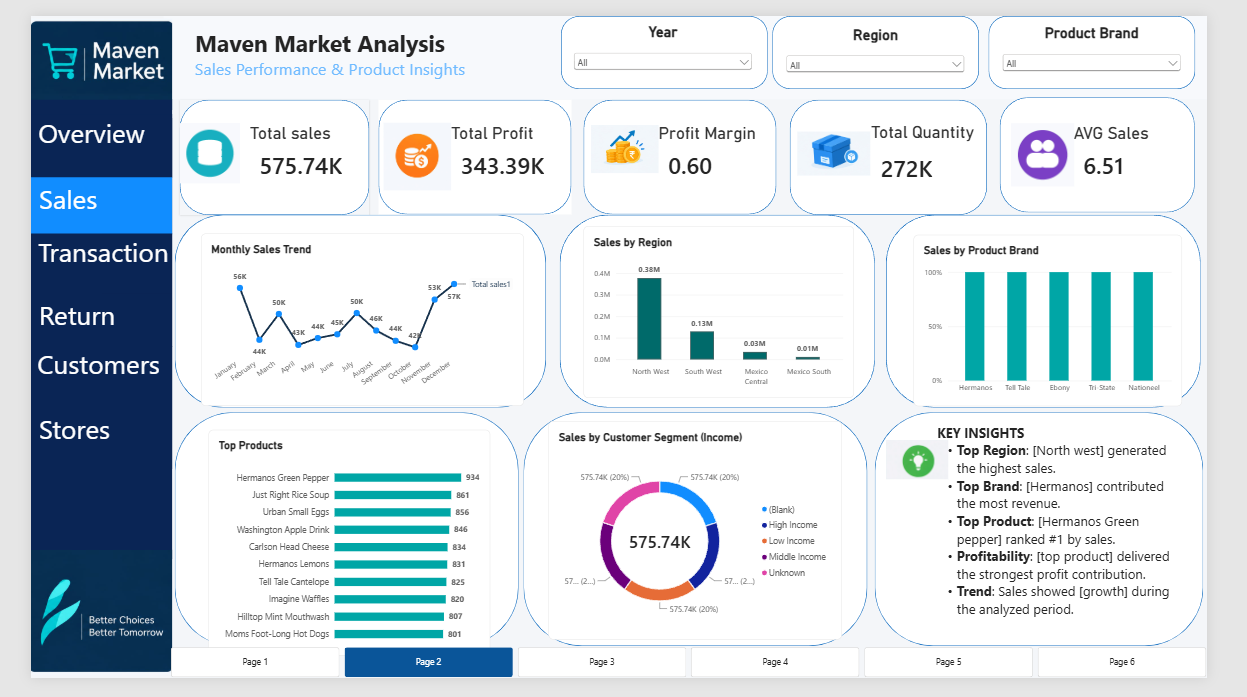

The page's visual inventory and layout, read from the dashboard file:
{"tool":"powerbi","page":{"name":"Page 2","canvas":[1920,1080],"ordinal":1},"visuals":[{"type":"textbox","title":"Maven Market Analysis ","box":[215.7,0,1704.3,135.8],"z":1},{"type":"image","box":[0,0,230.5,156.4],"z":2},{"type":"textbox","box":[0,135.8,230.5,749.2],"z":3},{"type":"image","box":[0,870.1,230.5,209.9],"z":4},{"type":"textbox","box":[0,166.7,230.5,96.7],"z":5},{"type":"textbox","box":[0,263.5,230.5,92.6],"z":6},{"type":"textbox","box":[0,356.1,230.5,96.7],"z":7},{"type":"textbox","box":[0,452.8,230.5,86.4],"z":8},{"type":"textbox","box":[0,539.3,230.5,98.8],"z":9},{"type":"textbox","box":[0,638.1,230.5,100.9],"z":10},{"type":"shape","box":[864.5,0,337.6,119.4],"z":11},{"type":"slicer","title":"Year","fields":{"Values":["sales.transaction year"]},"box":[881,12.3,300.5,88.5],"z":13},{"type":"shape","box":[1210.3,0,337.6,119.4],"z":14},{"type":"slicer","title":"Region","fields":{"Values":["MavenMarket_Regions.sales_district"]},"box":[1228.8,16.5,300.5,88.5],"z":15},{"type":"shape","box":[1562.3,0,337.6,119.4],"z":16},{"type":"slicer","title":"Product Brand","fields":{"Values":["MavenMarket_Products.product_brand"]},"box":[1580.8,14.4,300.5,88.5],"z":17},{"type":"shape","box":[242.5,135.7,309.5,188.2],"z":18},{"type":"shape","box":[568.1,135.8,314.9,187.3],"z":19},{"type":"shape","box":[901.5,135.8,314.9,187.3],"z":20},{"type":"shape","box":[1239.6,135.7,322.1,188.2],"z":21},{"type":"shape","box":[1581.6,132.1,318.5,188.2],"z":22},{"type":"cardVisual","title":"Total sales ","fields":{"Data":["sales.Total sales1"]},"box":[358.1,175,179.1,88.5],"z":23},{"type":"cardVisual","title":"Total Profit ","fields":{"Data":["sales.Profit1"]},"box":[685.9,175.5,179.1,88.5],"z":24},{"type":"cardVisual","title":"Profit Margin","fields":{"Data":["sales.Profit margin1"]},"box":[1024.3,175.5,179.1,88.5],"z":25},{"type":"cardVisual","title":"Total Quantity","fields":{"Data":["sales.Total Quantity1"]},"box":[1370.8,172.9,179.1,100.9],"z":26},{"type":"cardVisual","title":"AVG Sales ","fields":{"Data":["sales.Average sales per transaction1"]},"box":[1702.9,175.5,179.1,88.5],"z":27},{"type":"image","box":[575.5,173.7,110.4,112.2],"z":28},{"type":"image","box":[242.5,161.1,98.8,125.6],"z":29},{"type":"image","box":[1250.5,170.1,119.4,110.4],"z":30},{"type":"image","box":[913.9,161.1,110.4,112.2],"z":31},{"type":"image","box":[1599.7,170.1,103.2,114],"z":32},{"type":"shape","box":[234.1,325,606.2,314.9],"z":33},{"type":"lineChart","title":"Monthly Sales Trend","fields":{"Category":["sales.transaction_date.Variation.Date Hierarchy.Month"],"Y":["sales.Total sales1"]},"box":[277.9,356.1,526.9,282],"z":34},{"type":"shape","box":[863.6,325,514.6,314.9],"z":36},{"type":"clusteredColumnChart","title":"Sales by Region","fields":{"Category":["MavenMarket_Regions.sales_region"],"Y":["sales.Total sales1"]},"box":[901.4,342.9,441.6,280.5],"z":37},{"type":"shape","box":[1395.5,325,513.9,314.9],"z":38},{"type":"hundredPercentStackedColumnChart","title":"Sales by Product Brand","fields":{"Category":["MavenMarket_Products.product_brand"],"Y":["sales.Total sales1"]},"box":[1440.8,358.1,438.4,279.9],"z":39},{"type":"shape","box":[234.1,647.7,561.4,381.8],"z":40},{"type":"clusteredBarChart","title":"Top Products","fields":{"Category":["MavenMarket_Products.product_name"],"Y":["sales.Total sales1"]},"box":[289.5,675,459.7,369.2],"z":41},{"type":"shape","box":[804.5,647.7,561.4,381.8],"z":43},{"type":"donutChart","title":"Sales by Customer Segment (Income)","fields":{"Category":["MavenMarket_Customers.Income Segment"],"Y":["sales.Total sales1"]},"box":[845.7,661.4,479.6,356.5],"z":44},{"type":"shape","box":[1377.3,647.7,536.4,381.8],"z":45},{"type":"textbox","box":[0,160.5,230.5,100.9],"z":47},{"type":"pageNavigator","box":[228.1,1030.6,1691.9,49.4],"z":48},{"type":"textbox","box":[1480,664.3,400,350],"z":49},{"type":"image","box":[1395.7,675.7,101.4,97.1],"z":50}]}

Visuals, with their boxes in screenshot pixels (x1, y1, x2, y2), scaled from the page's 1920x1080 canvas onto the 1247x697 screenshot:
"Maven Market Analysis " textbox: Rect(140, 0, 1246, 88)
image: Rect(0, 0, 150, 101)
textbox: Rect(0, 88, 150, 571)
image: Rect(0, 562, 150, 696)
textbox: Rect(0, 108, 150, 170)
textbox: Rect(0, 170, 150, 230)
textbox: Rect(0, 230, 150, 292)
textbox: Rect(0, 292, 150, 348)
textbox: Rect(0, 348, 150, 412)
textbox: Rect(0, 412, 150, 477)
shape: Rect(561, 0, 781, 77)
"Year" slicer: Rect(572, 8, 767, 65)
shape: Rect(786, 0, 1005, 77)
"Region" slicer: Rect(798, 11, 993, 68)
shape: Rect(1015, 0, 1234, 77)
"Product Brand" slicer: Rect(1027, 9, 1222, 66)
shape: Rect(157, 88, 359, 209)
shape: Rect(369, 88, 573, 209)
shape: Rect(586, 88, 790, 209)
shape: Rect(805, 88, 1014, 209)
shape: Rect(1027, 85, 1234, 207)
"Total sales " cardVisual: Rect(233, 113, 349, 170)
"Total Profit " cardVisual: Rect(445, 113, 562, 170)
"Profit Margin" cardVisual: Rect(665, 113, 782, 170)
"Total Quantity" cardVisual: Rect(890, 112, 1007, 177)
"AVG Sales " cardVisual: Rect(1106, 113, 1222, 170)
image: Rect(374, 112, 445, 185)
image: Rect(157, 104, 222, 185)
image: Rect(812, 110, 890, 181)
image: Rect(594, 104, 665, 176)
image: Rect(1039, 110, 1106, 183)
shape: Rect(152, 210, 546, 413)
"Monthly Sales Trend" lineChart: Rect(180, 230, 523, 412)
shape: Rect(561, 210, 895, 413)
"Sales by Region" clusteredColumnChart: Rect(585, 221, 872, 402)
shape: Rect(906, 210, 1240, 413)
"Sales by Product Brand" hundredPercentStackedColumnChart: Rect(936, 231, 1221, 412)
shape: Rect(152, 418, 517, 664)
"Top Products" clusteredBarChart: Rect(188, 436, 487, 674)
shape: Rect(523, 418, 887, 664)
"Sales by Customer Segment (Income)" donutChart: Rect(549, 427, 861, 657)
shape: Rect(895, 418, 1243, 664)
textbox: Rect(0, 104, 150, 169)
pageNavigator: Rect(148, 665, 1246, 696)
textbox: Rect(961, 429, 1221, 655)
image: Rect(906, 436, 972, 499)
